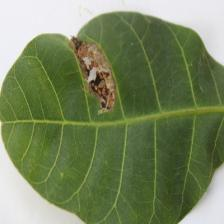leaf miner: (0, 9, 223, 224), (67, 35, 117, 115)
